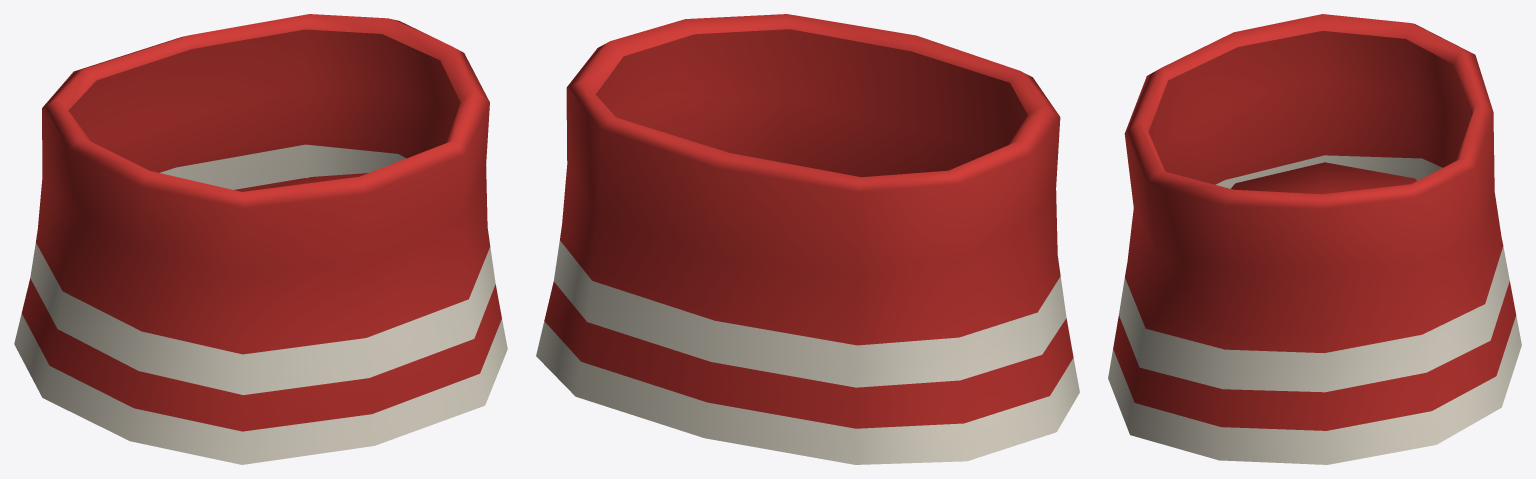
Rendered from Bottom_46.fbx.
3 renders of one model, left to right at view 1: azimuth 30°, elevation 25°; view 2: azimuth 150°, elevation 25°; view 3: azimuth 270°, elevation 25°, orthographic. The views are drawn at different scales.
Parts seen in each view (by area): view 1: Bottom_46; view 2: Bottom_46; view 3: Bottom_46.
Boxes of the visible parts, <box> form: Bottom_46: <box>14,14,507,464</box>; Bottom_46: <box>536,14,1079,464</box>; Bottom_46: <box>1108,14,1521,464</box>.
Size of the model in its own units: 43.31 by 25.69 by 35.06.
